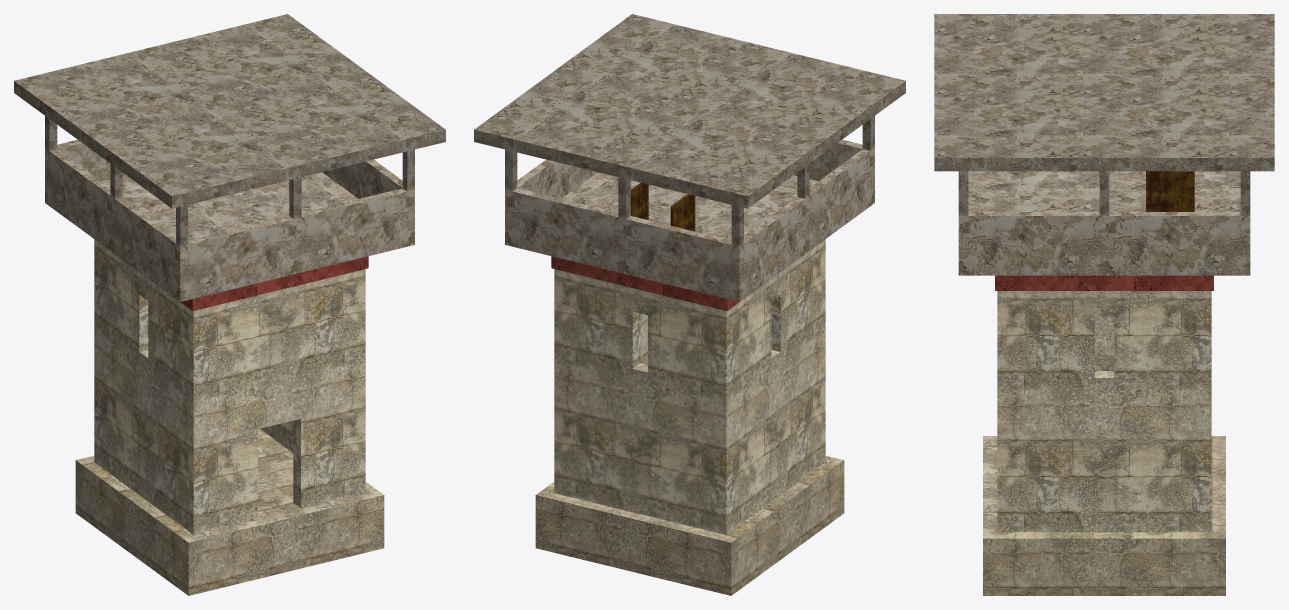
File: bw-post.bw-v1.lod0.glb
3 views of the same model, side by side, from view 1: azimuth 30°, elevation 25°; view 2: azimuth 150°, elevation 25°; view 3: azimuth 270°, elevation 25° (orthographic). The views are drawn at different scales.
Visible parts, largest first — view 1: bw-post; view 2: bw-post; view 3: bw-post.
Part boxes in pixels (left/top/right/bottom): bw-post: left=14, top=14, right=445, bottom=595; bw-post: left=474, top=14, right=905, bottom=595; bw-post: left=934, top=14, right=1274, bottom=595.
Size of the model in its own units: 7 by 10.4 by 7.
Materials: 3 (3 with a texture image).
